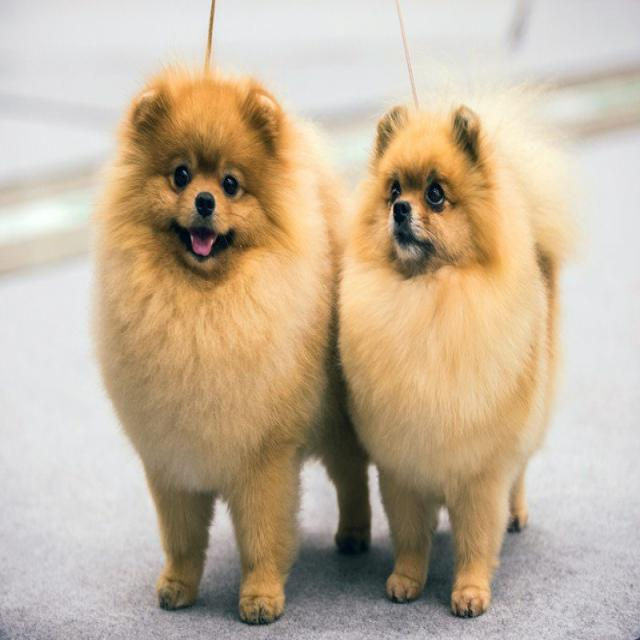Dog: (95, 76, 335, 622)
